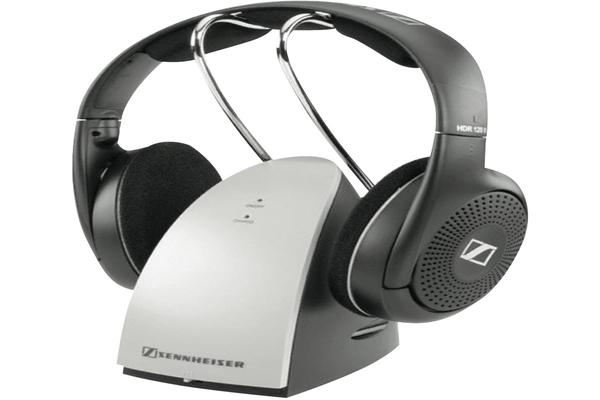headphone: (45, 1, 572, 336)
